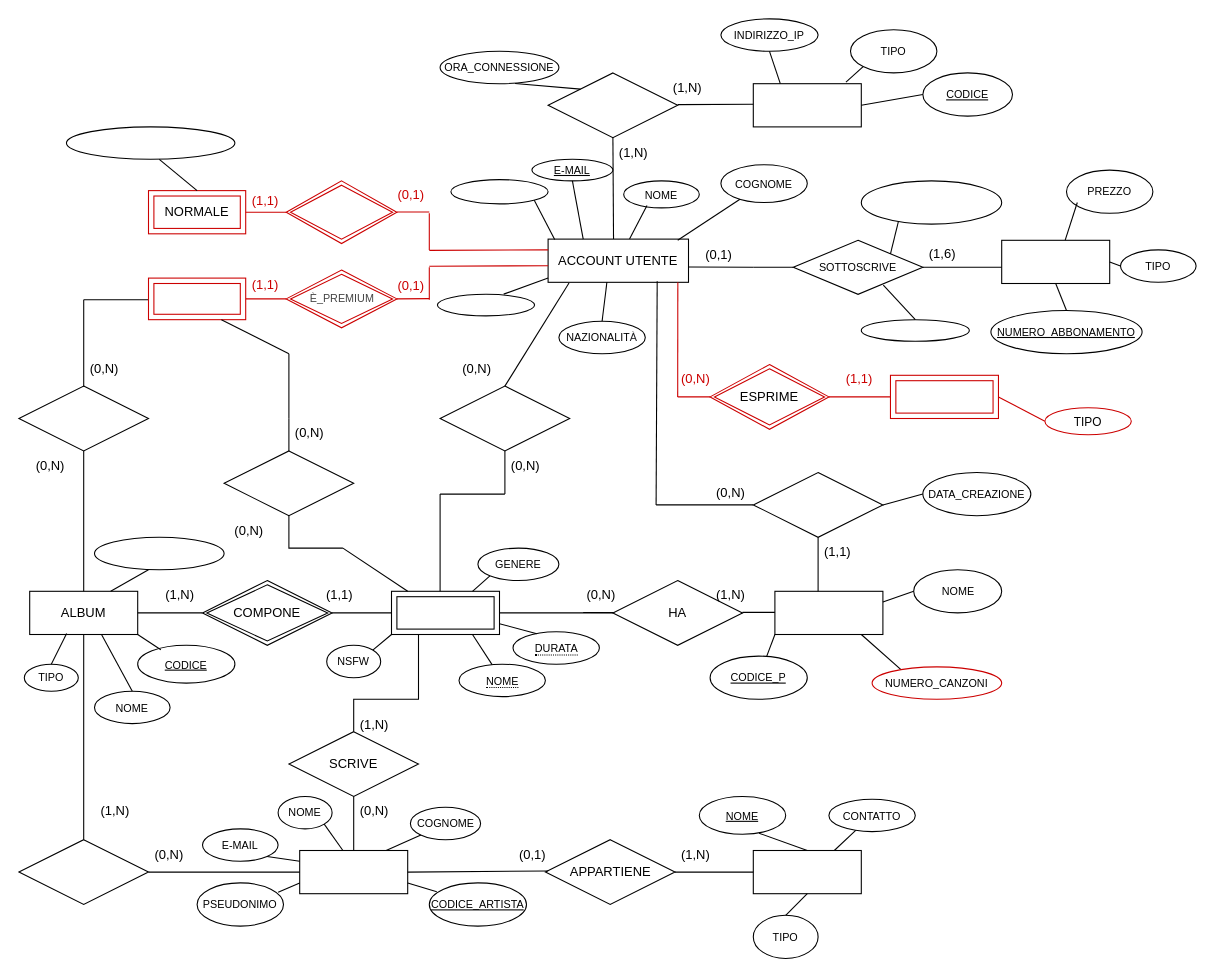
The diagram is 1215 pixels wide and 977 high, and some of its shapes have lost their labels. Each missing label, with the centre of its shape:
ABBONAMENTO: point (1055, 261)
ARTISTA: point (353, 871)
ASCOLTA: point (504, 418)
CANZONE: point (445, 612)
COMPARE: point (83, 872)
CONNESSO_A: point (612, 105)
CREA: point (817, 504)
DATA_NASCITA: point (485, 304)
DATA_PUBBLICAZIONE: point (158, 553)
DATA_SCADENZA: point (914, 330)
DATA_SOTTOSCRIZIONE: point (931, 202)
DISPOSITIVO: point (806, 105)
ETICHETTA DISCOGRAFICA: point (806, 871)
PASSWORD: point (499, 191)
PLAYLIST: point (828, 612)
PREFERENZA: point (943, 396)
PREMIUM: point (196, 298)
SCADENZA_PERIODO_DI_PROVA: point (150, 142)
SCARICA_A: point (83, 418)
SCARICA_C: point (288, 483)
È_ NORMALE: point (341, 212)
